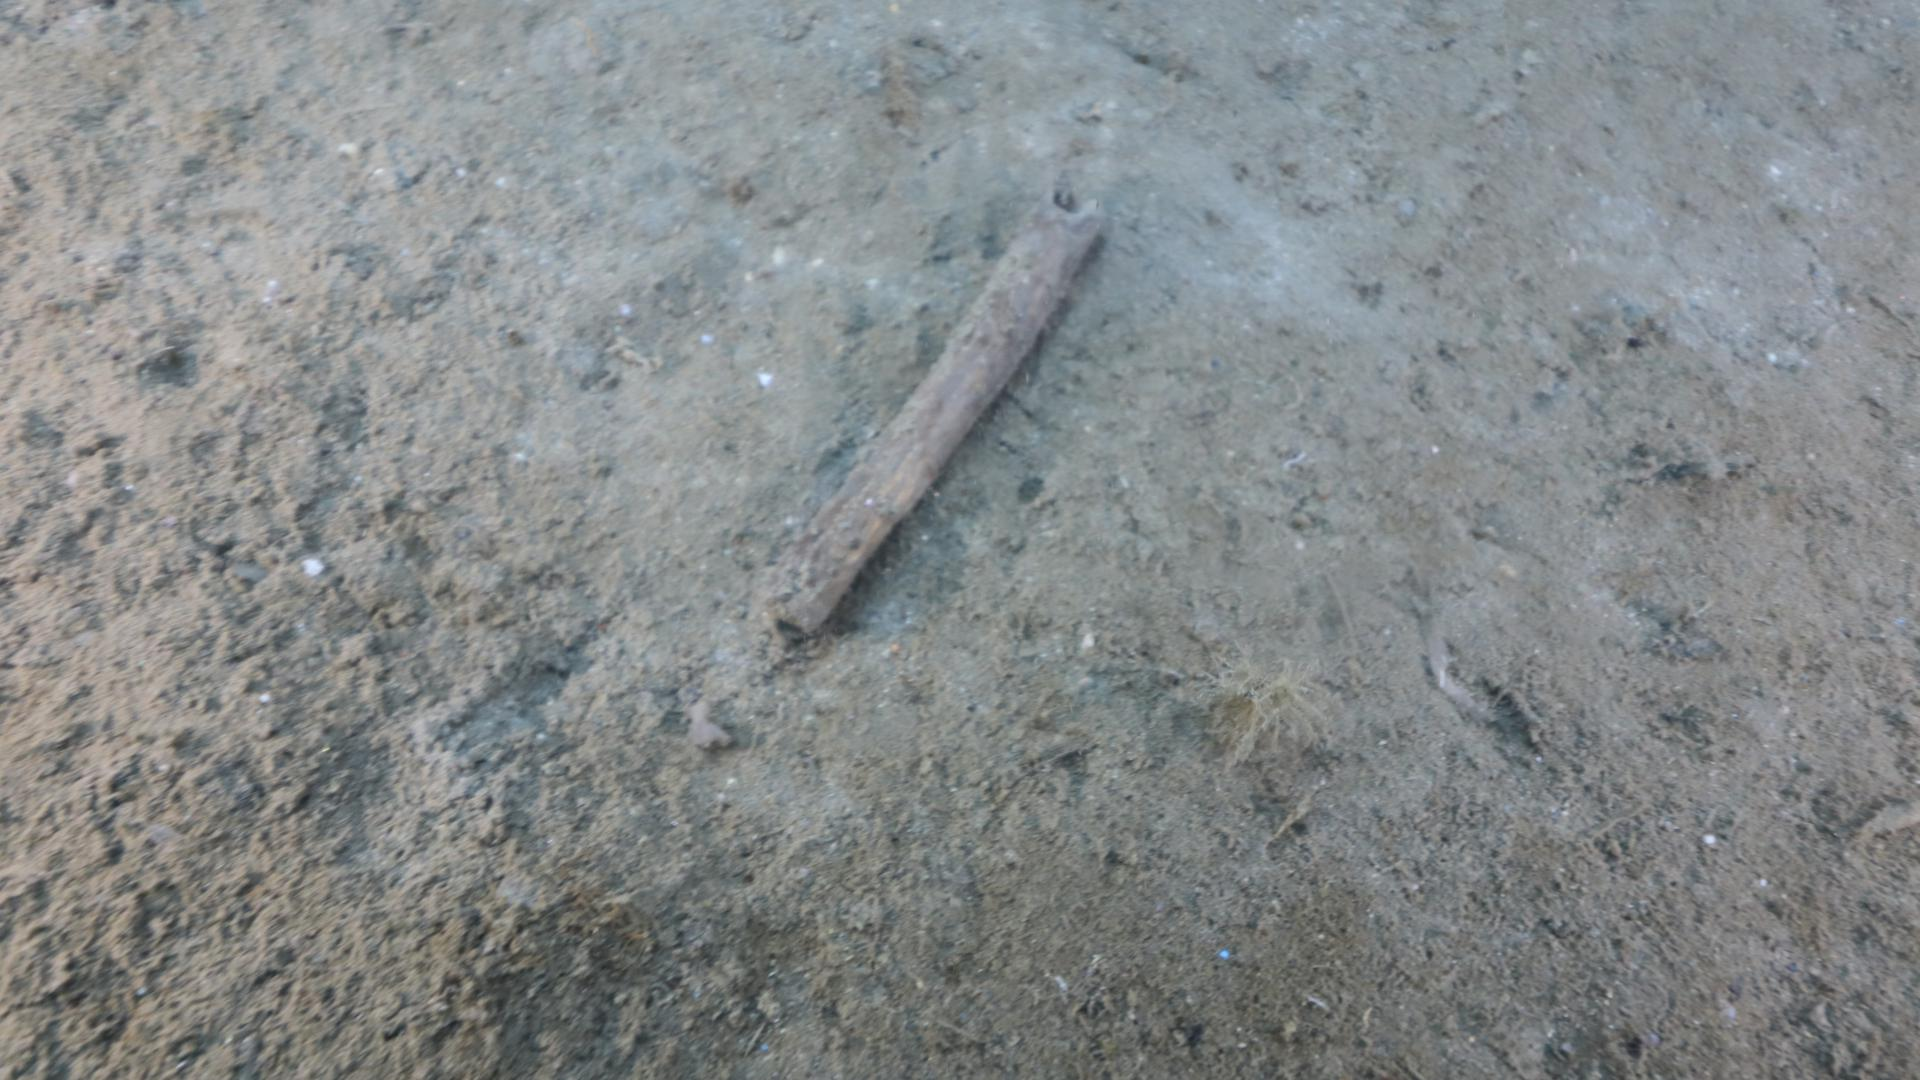wood: (753, 182, 1106, 636)
